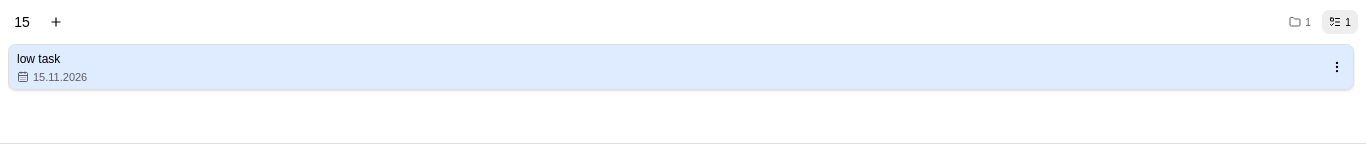
Test: CalendarDayCell › switches between tasks and folders for the selected day
Check: the text "low task" is shown, box [17,52,60,66]
Check: the text "Planning folder" is not shown
Step 1. Click the button named "Show folders for 2026-11-15" → (1300, 22), box [1282,10,1318,34]
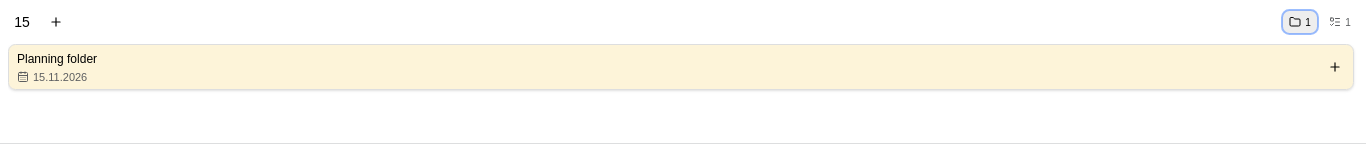
Check: the button "low task" is gone
Step 2. Click the button "Planning folder 15.11.2026" → (57, 59), box [9,45,1317,89]
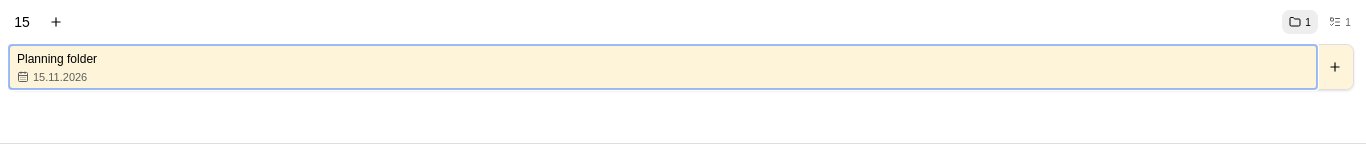
Step 3. Click the button named "Show tasks for 2026-11-15" → (1340, 22), box [1322,10,1358,34]
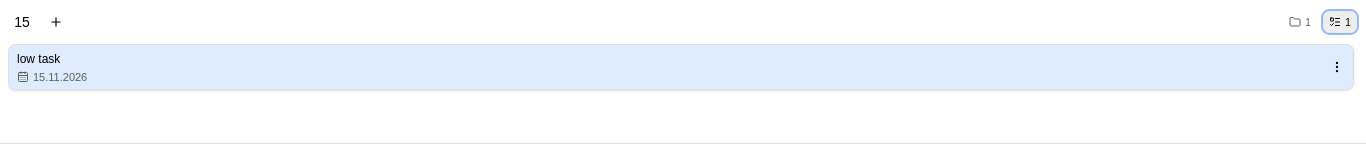
Check: the text "low task" is shown, box [17,52,60,66]
